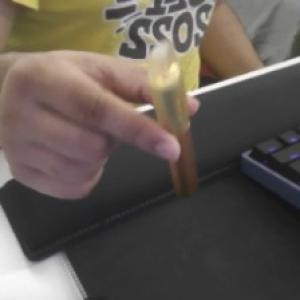Golden-E-Ciggirate: (143, 49, 205, 201)
